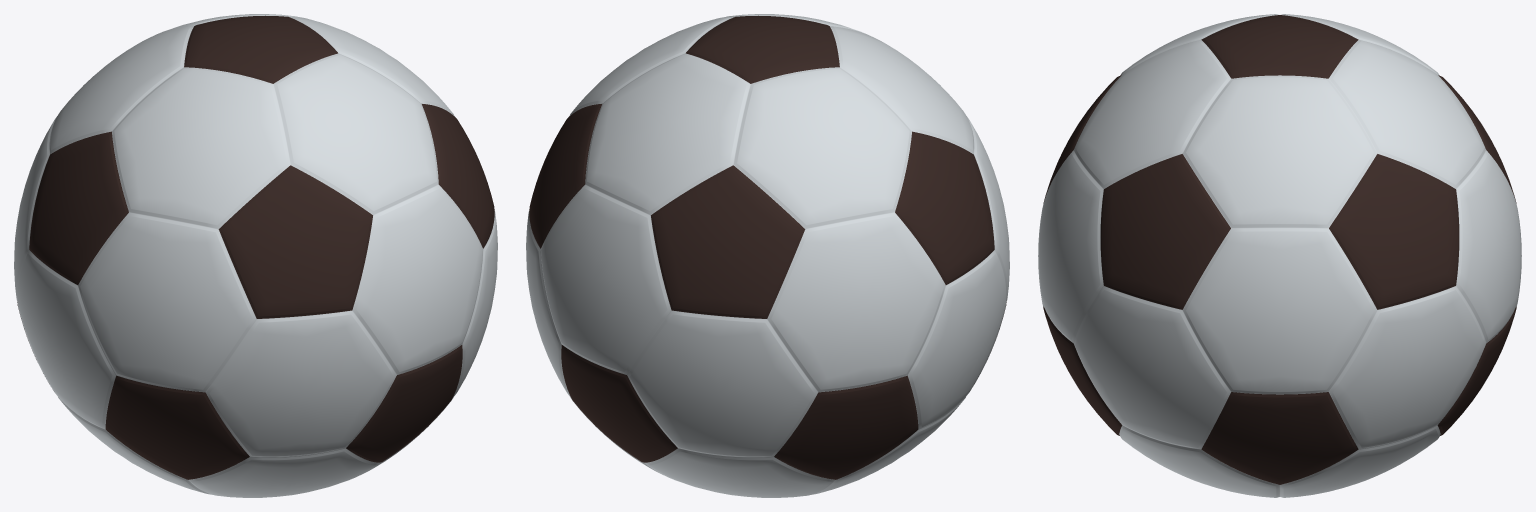
Rendered from Ball.fbx.
The picture shows the model from 3 angles, left to right: view 1: azimuth 30°, elevation 25°; view 2: azimuth 150°, elevation 25°; view 3: azimuth 270°, elevation 25°; orthographic projection.
Parts seen in each view (by area): view 1: Icosphere; view 2: Icosphere; view 3: Icosphere.
Boxes of the visible parts, x1=… form: Icosphere: x1=14, y1=14, x2=497, y2=497; Icosphere: x1=526, y1=14, x2=1009, y2=497; Icosphere: x1=1038, y1=14, x2=1521, y2=497.
Bounding box in the file's own units: 0.1396 × 0.1402 × 0.1397.
1 material, 1 textured.
